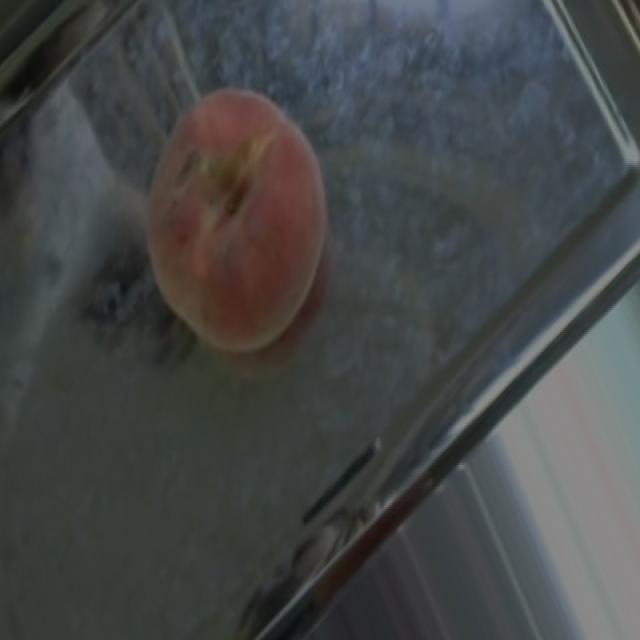Fruit: (101, 63, 362, 380)
